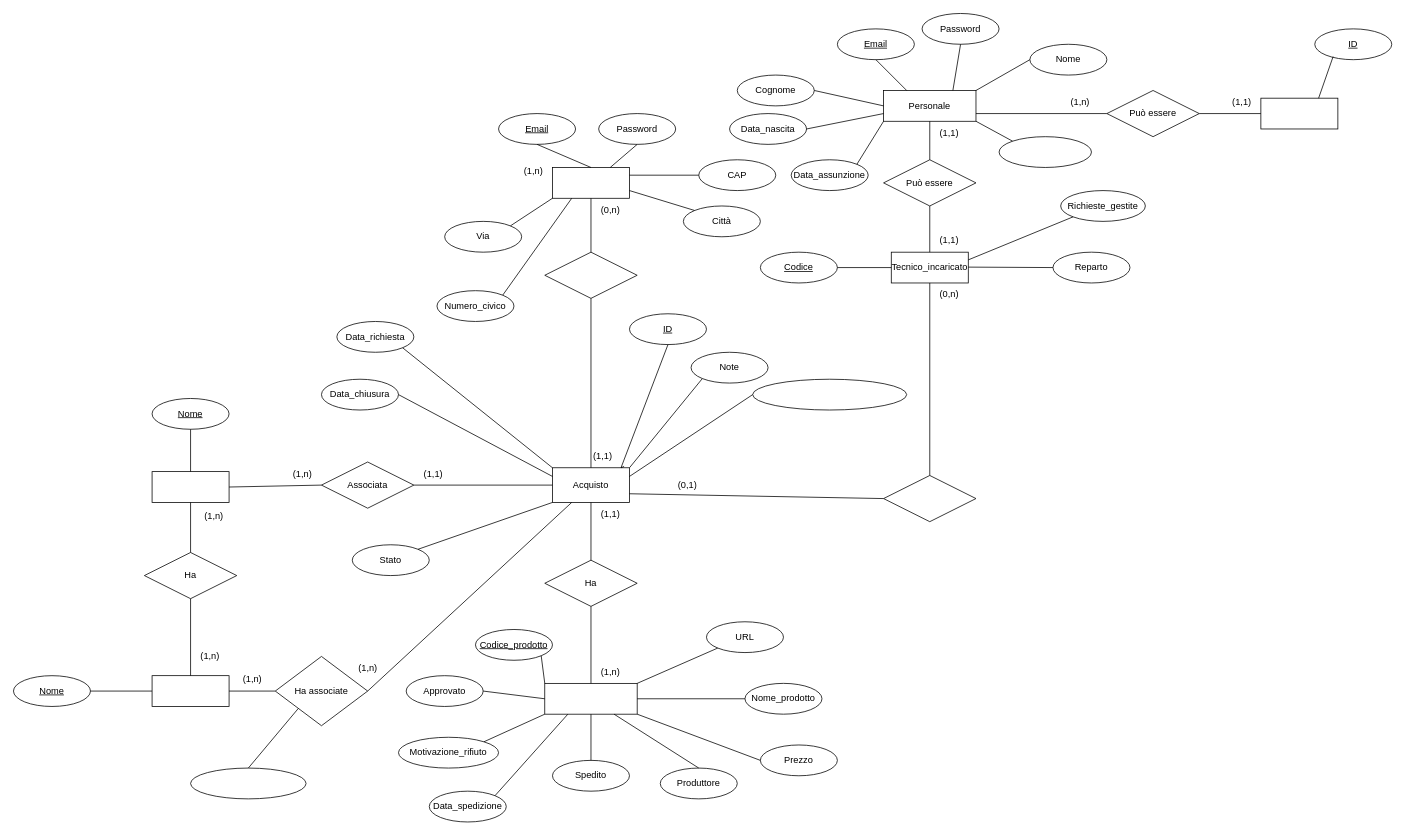
Some shapes in this 1405 by 835 pixel diagram are drawn without their labels. Here are the shapes that lost their labels. From the top down, the centre of each, then its label:
At [1299,113]: "Amministratore".
At [1044,151]: "Data_licenziamento".
At [590,182]: "Ordinante".
At [590,274]: "Effettua".
At [829,394]: "Report_consegna".
At [190,486]: "Categoria".
At [929,498]: "è associato".
At [190,690]: "Caratteristiche".
At [590,698]: "Prodotto_candidato".
At [248,783]: "Specifica_scelta".
